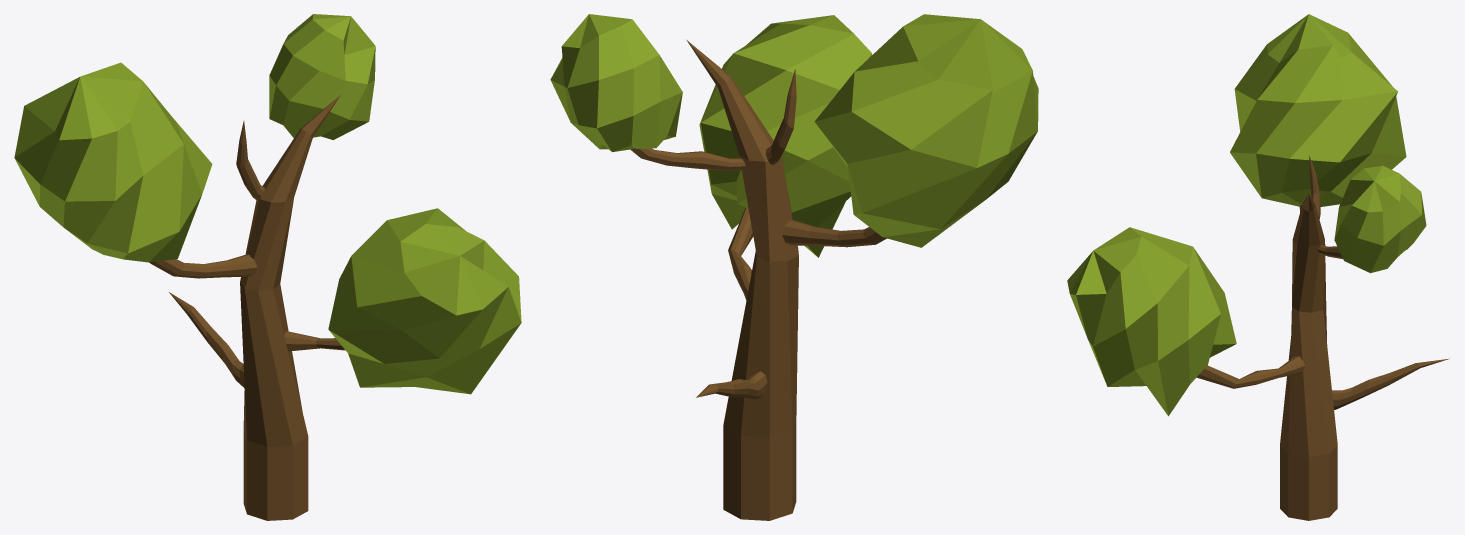
The model's file is tree_one.fbx.
3 views of the same model, side by side, from view 1: azimuth 30°, elevation 25°; view 2: azimuth 150°, elevation 25°; view 3: azimuth 270°, elevation 25° (orthographic). The views are drawn at different scales.
Parts seen in each view (by area): view 1: leafs_3, leafs_2, wood_5, leafs_1, wood_6, wood_1, wood_2, wood_4; view 2: leafs_3, wood_5, leafs_2, leafs_1, wood_6, wood_3, wood_4, wood_1, wood_2; view 3: leafs_3, leafs_2, wood_5, leafs_1, wood_4, wood_1.
Part boxes in pixels (x1,y1,x2,y2): leafs_3: [14, 62, 212, 262]; leafs_2: [328, 208, 521, 394]; wood_5: [240, 95, 340, 520]; leafs_1: [269, 14, 375, 139]; wood_6: [149, 254, 257, 278]; wood_1: [169, 292, 244, 388]; wood_2: [236, 121, 265, 200]; wood_4: [284, 331, 345, 351]; leafs_3: [814, 14, 1038, 247]; wood_5: [686, 39, 798, 520]; leafs_2: [699, 15, 872, 257]; leafs_1: [550, 14, 682, 152]; wood_6: [782, 220, 886, 247]; wood_3: [630, 148, 745, 170]; wood_4: [728, 208, 753, 300]; wood_1: [696, 371, 767, 399]; wood_2: [765, 69, 796, 164]; leafs_3: [1230, 14, 1406, 206]; leafs_2: [1067, 227, 1236, 416]; wood_5: [1280, 194, 1337, 520]; leafs_1: [1334, 165, 1426, 273]; wood_4: [1196, 356, 1304, 388]; wood_1: [1332, 358, 1449, 409].
Bounding box in the file's own units: 639 × 786 × 663.
